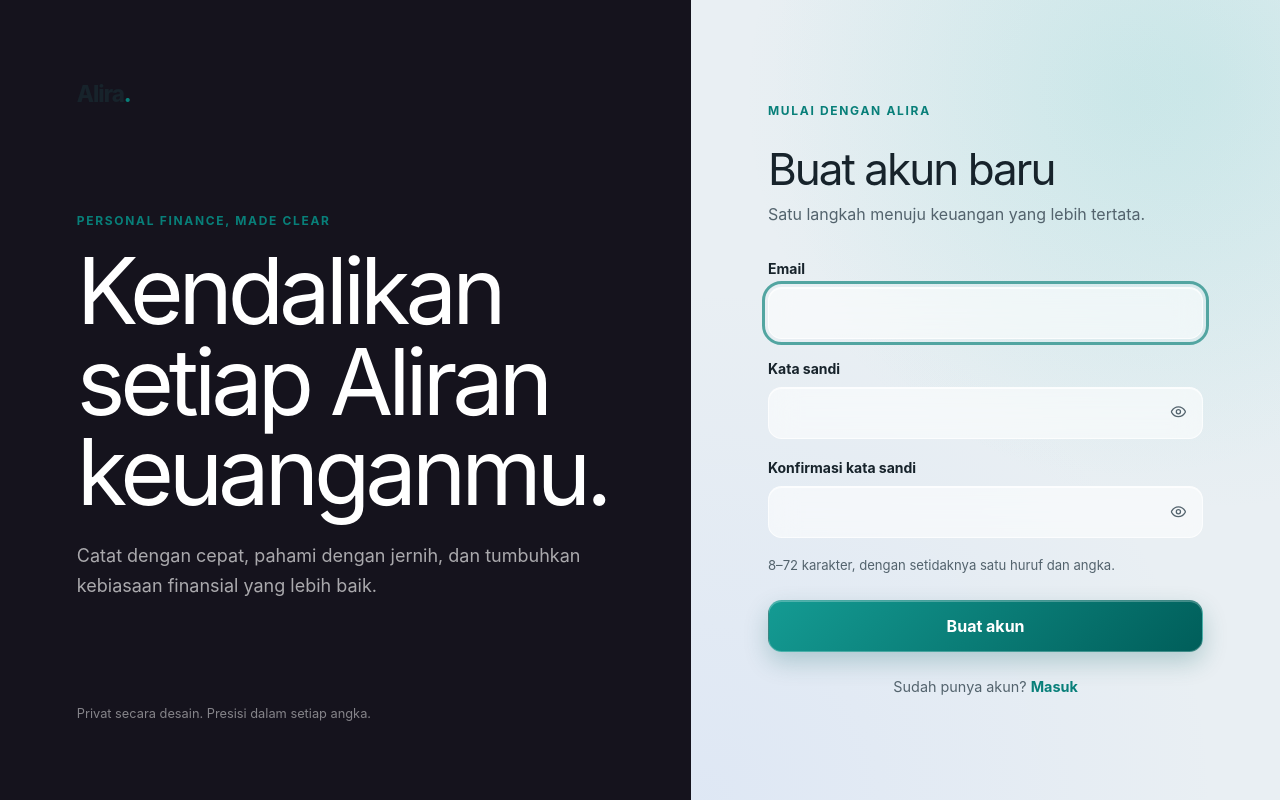
Test: authentication flows › validates register confirmation and never sends it
Expected: the heading "Buat akun baru" is shown, x1=768 y1=142 x2=1054 y2=196
Type "new@example.com" into the field labelled "Email" at (986, 313), box x1=768 y1=287 x2=1203 y2=339
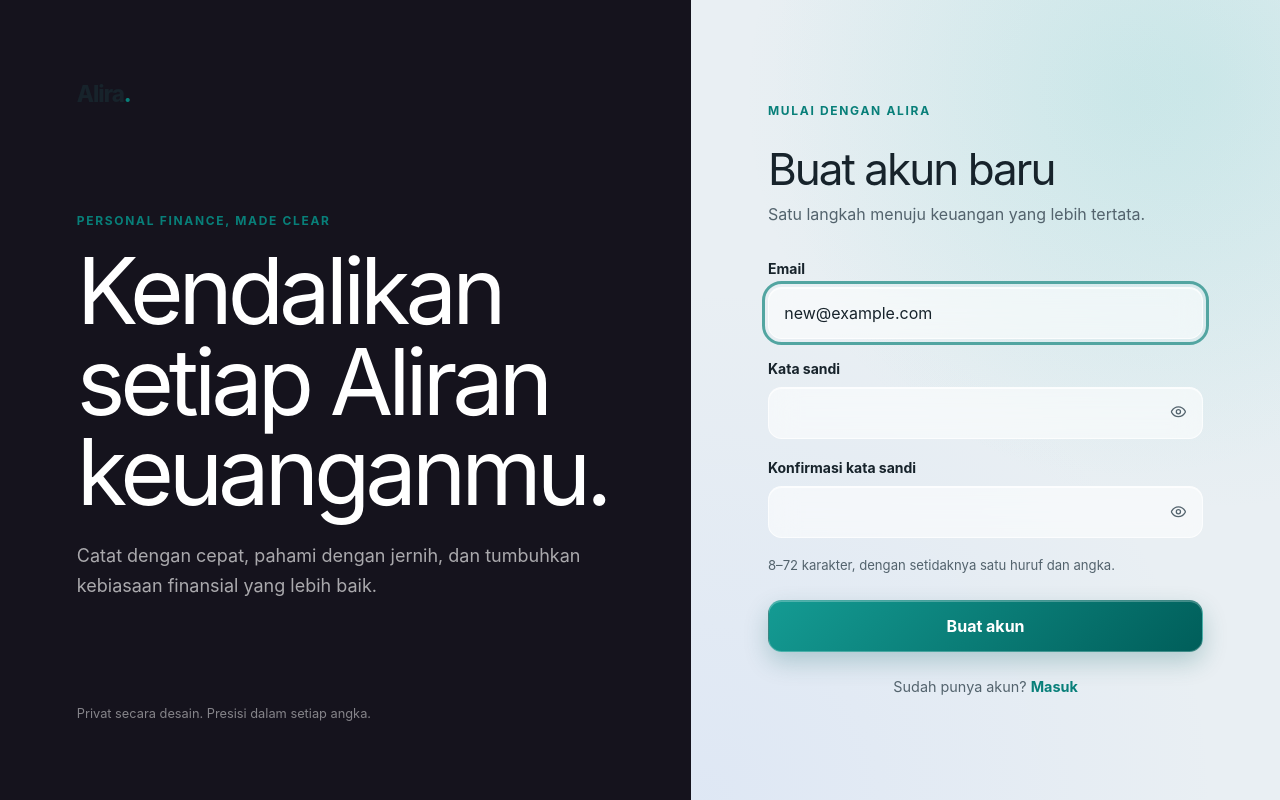
Type "Password1" into the password field labelled "Kata sandi" at (986, 413), box x1=768 y1=387 x2=1203 y2=439
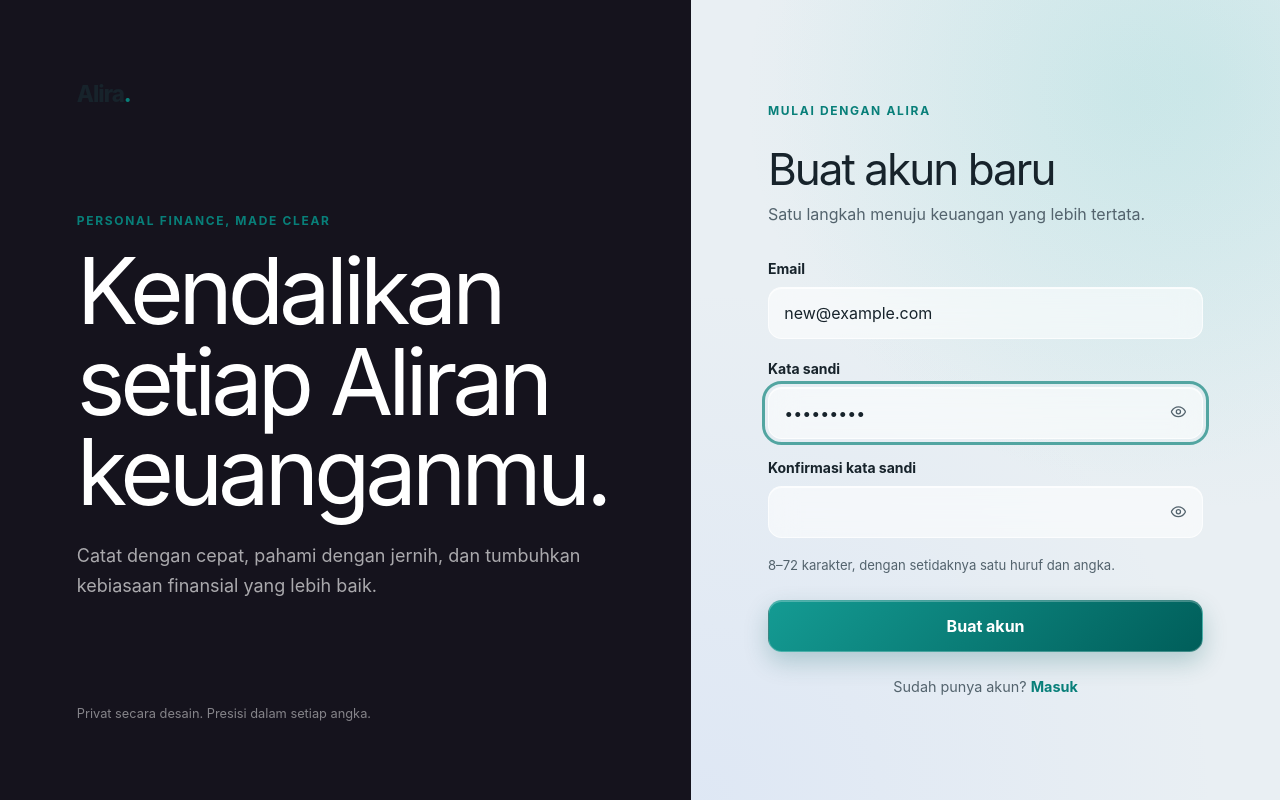
Type "Different1" into the password field labelled "Konfirmasi kata sandi" at (986, 512), box x1=768 y1=486 x2=1203 y2=538
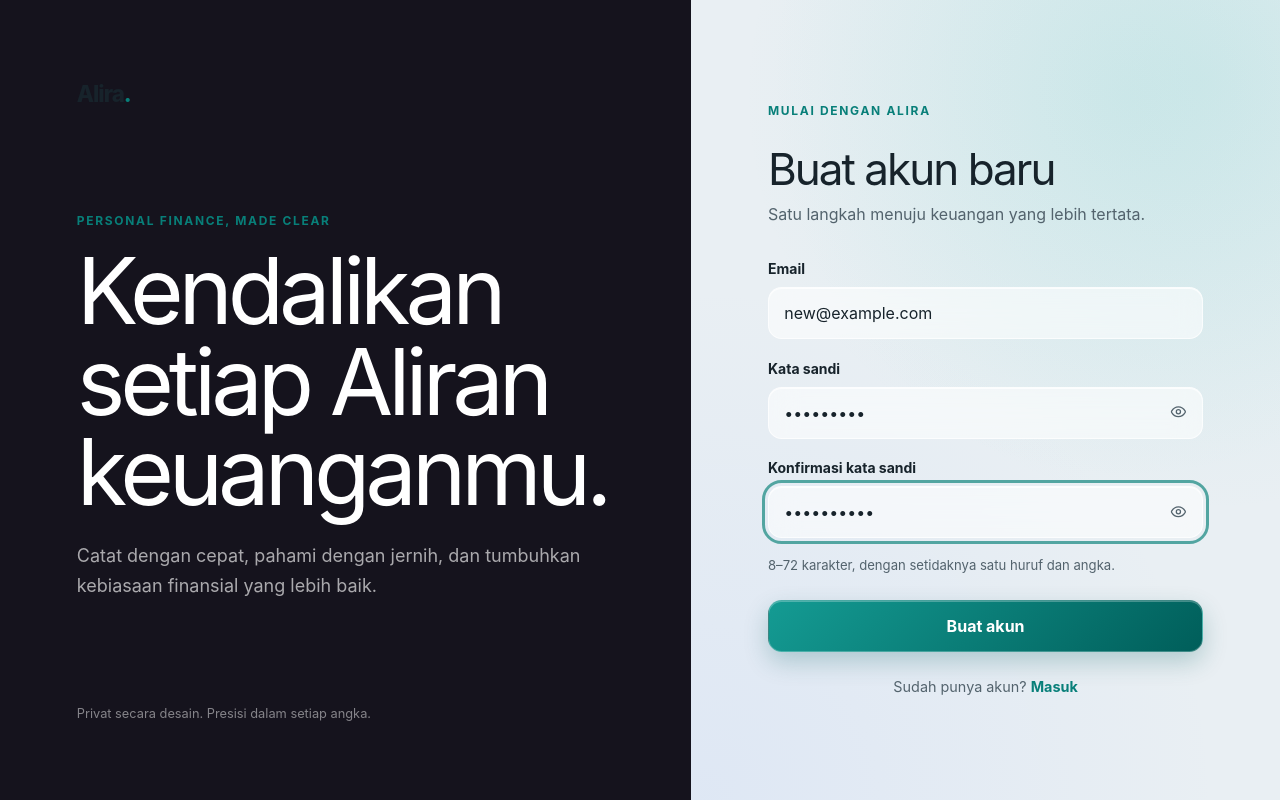
Click the button "Buat akun" at (986, 626), box x1=768 y1=600 x2=1203 y2=652
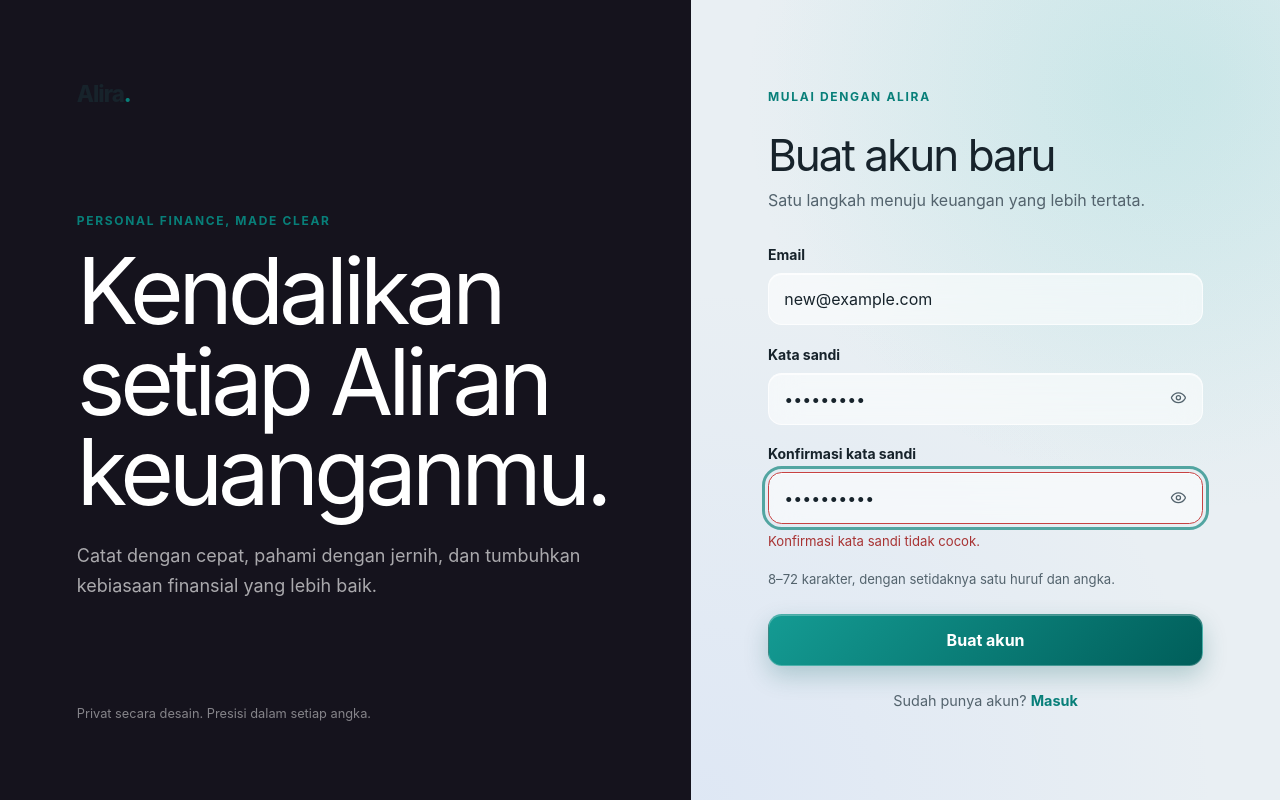
Expected: the text "Konfirmasi kata sandi tidak cocok." is shown, x1=768 y1=533 x2=980 y2=549
